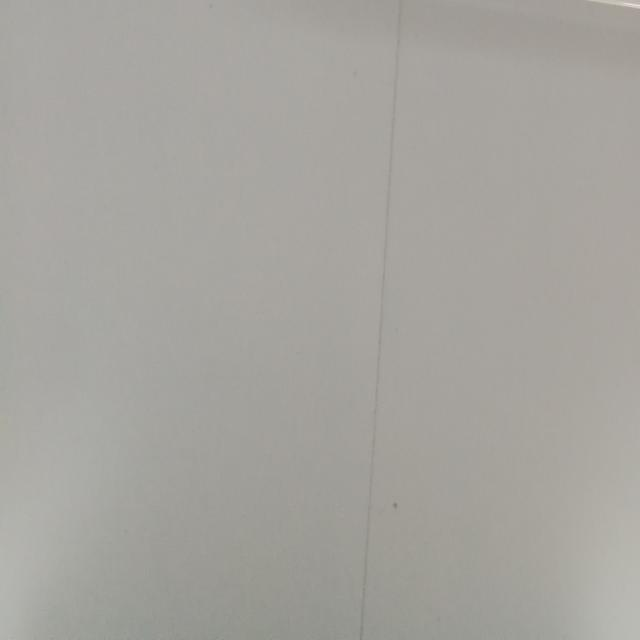fluorescent tube: (195, 0, 640, 126)
